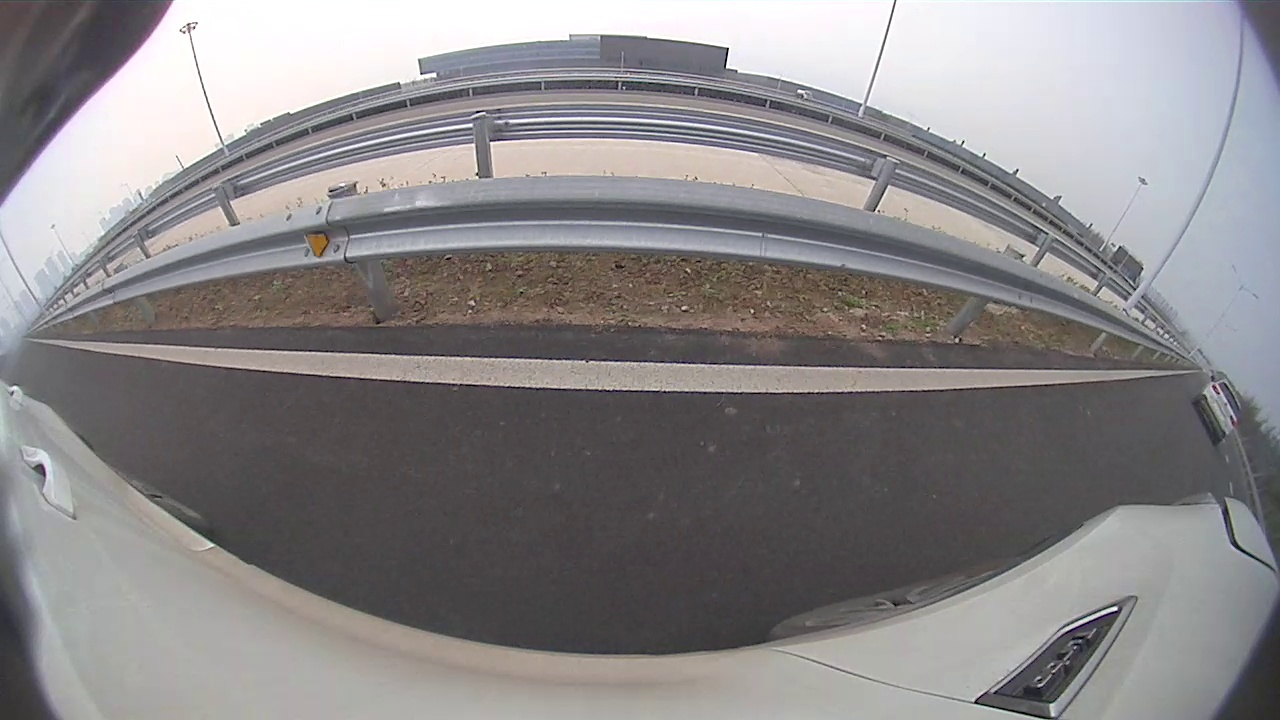car: (1191, 375, 1243, 447)
